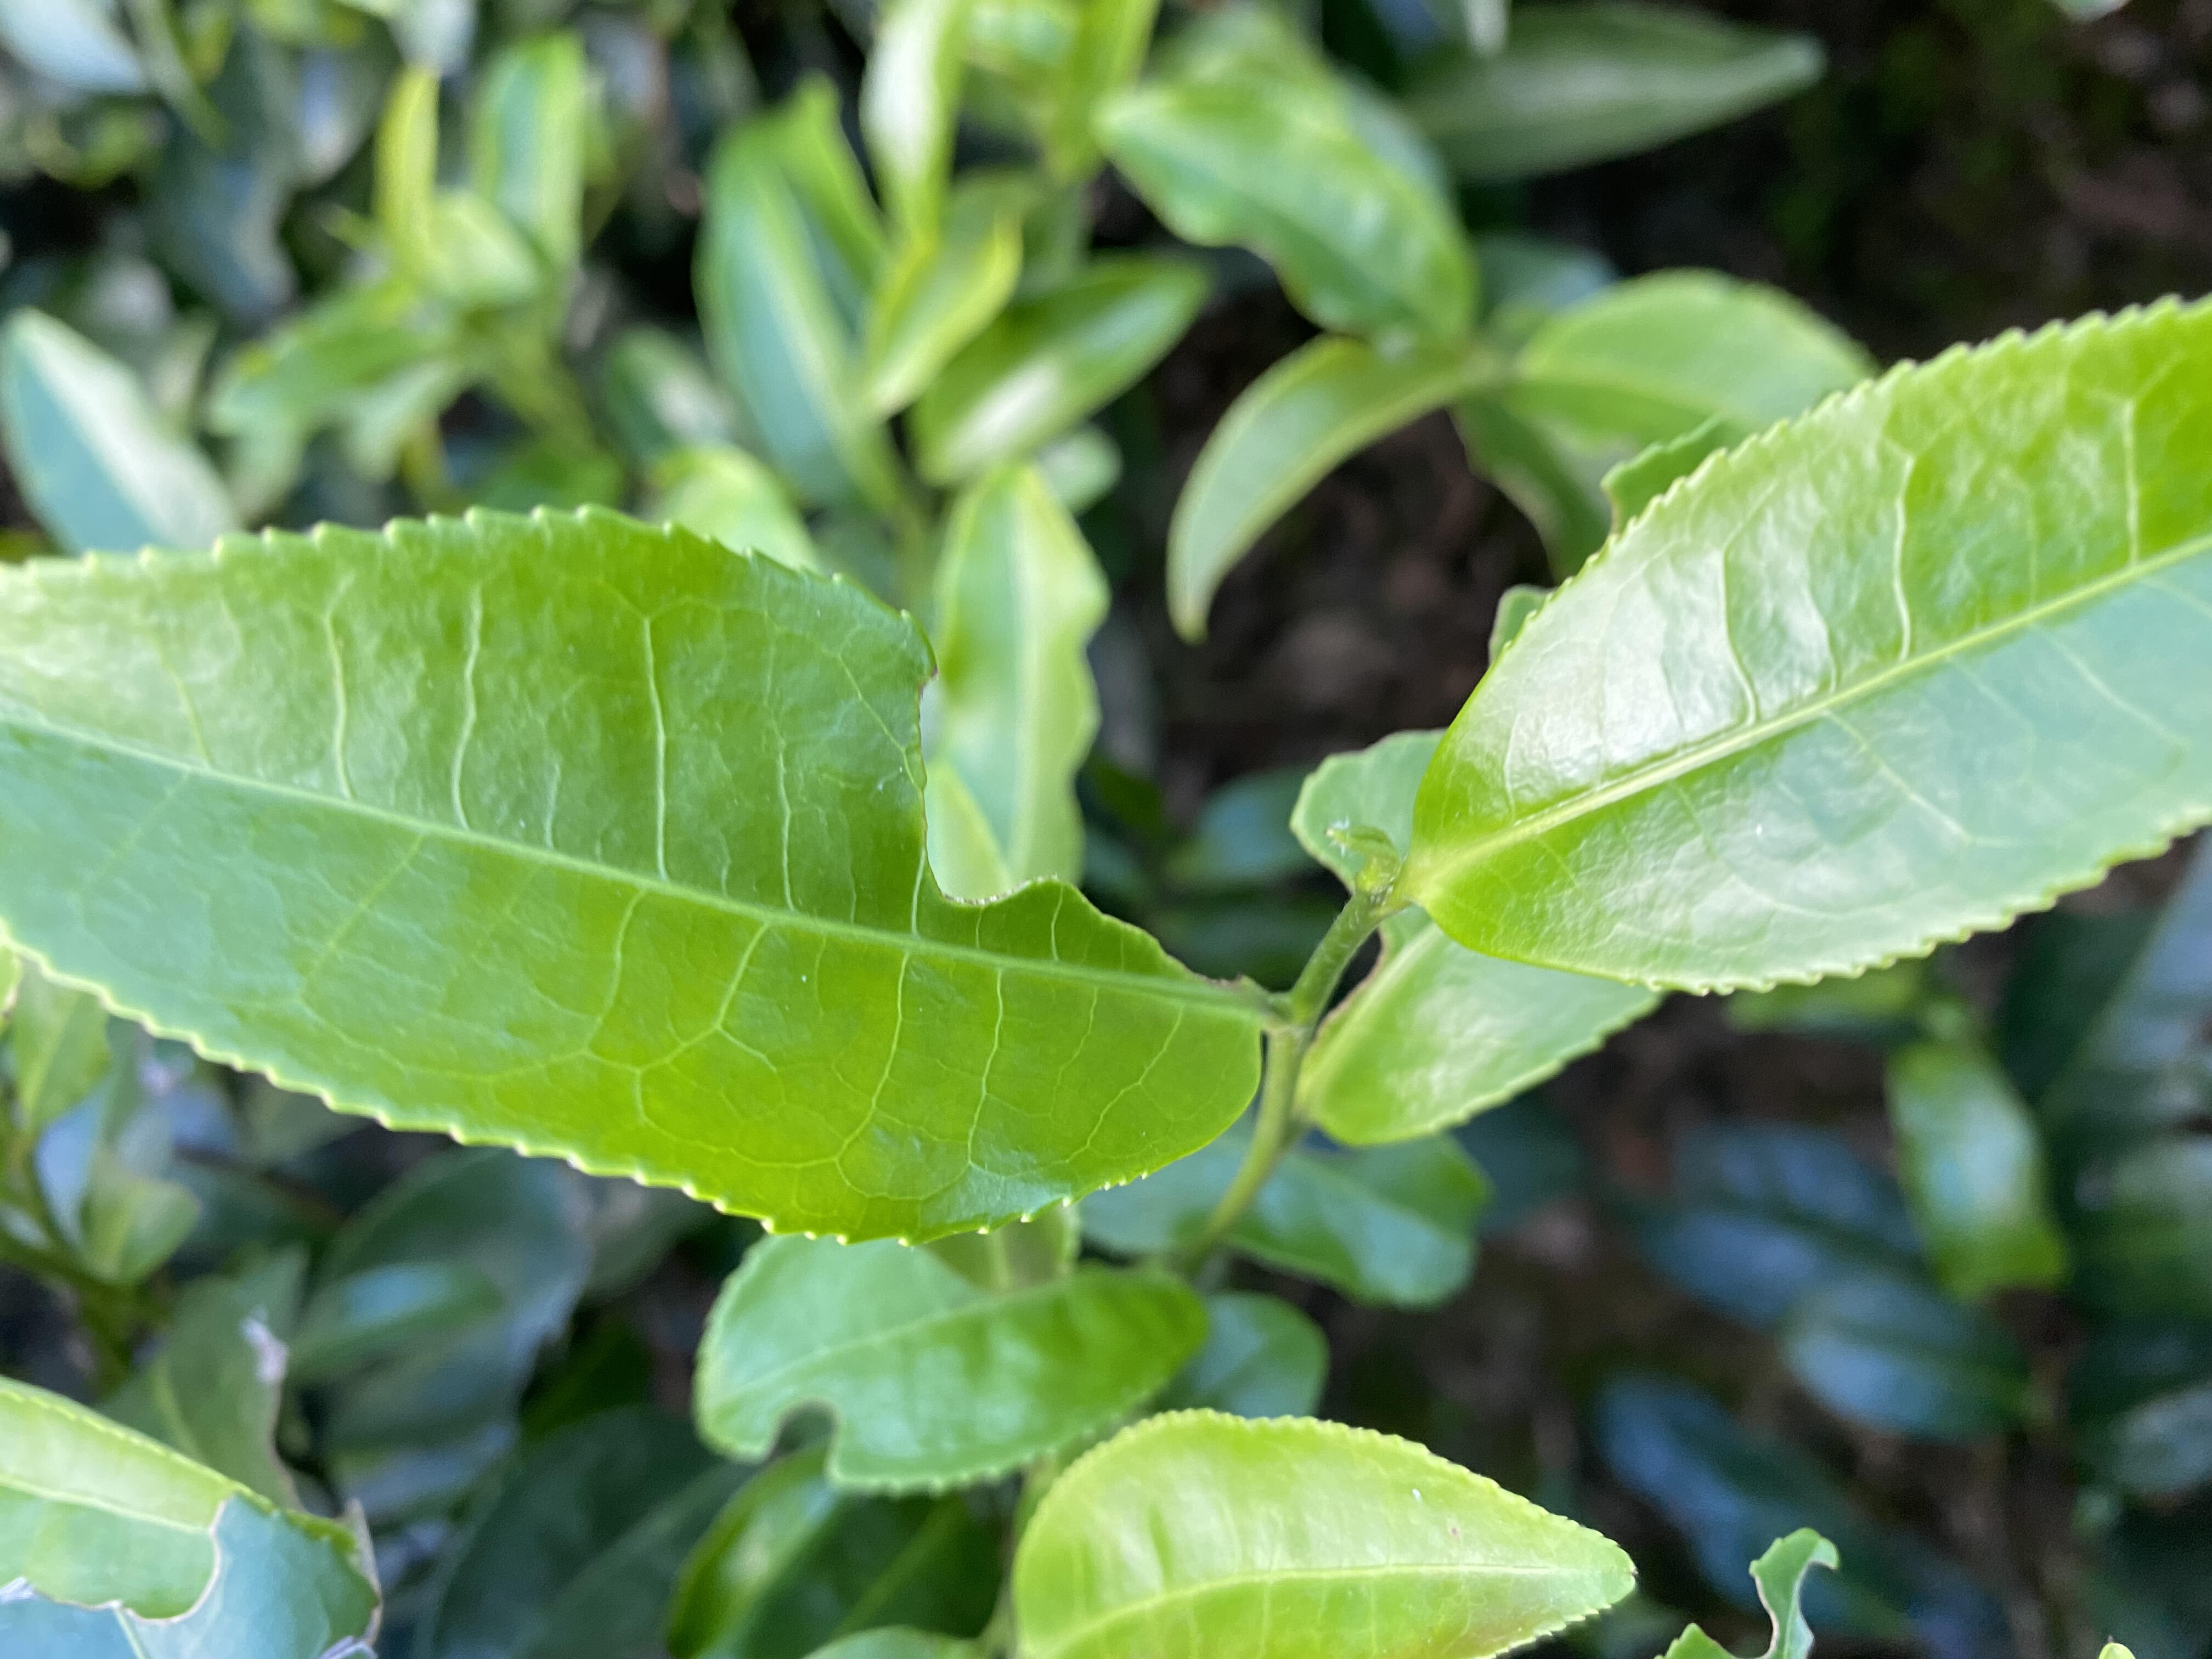chihuo_high: (3, 505, 1264, 1248), (1649, 1523, 1848, 1657)
healthy: (1414, 289, 2212, 999), (1019, 1406, 1651, 1656)
